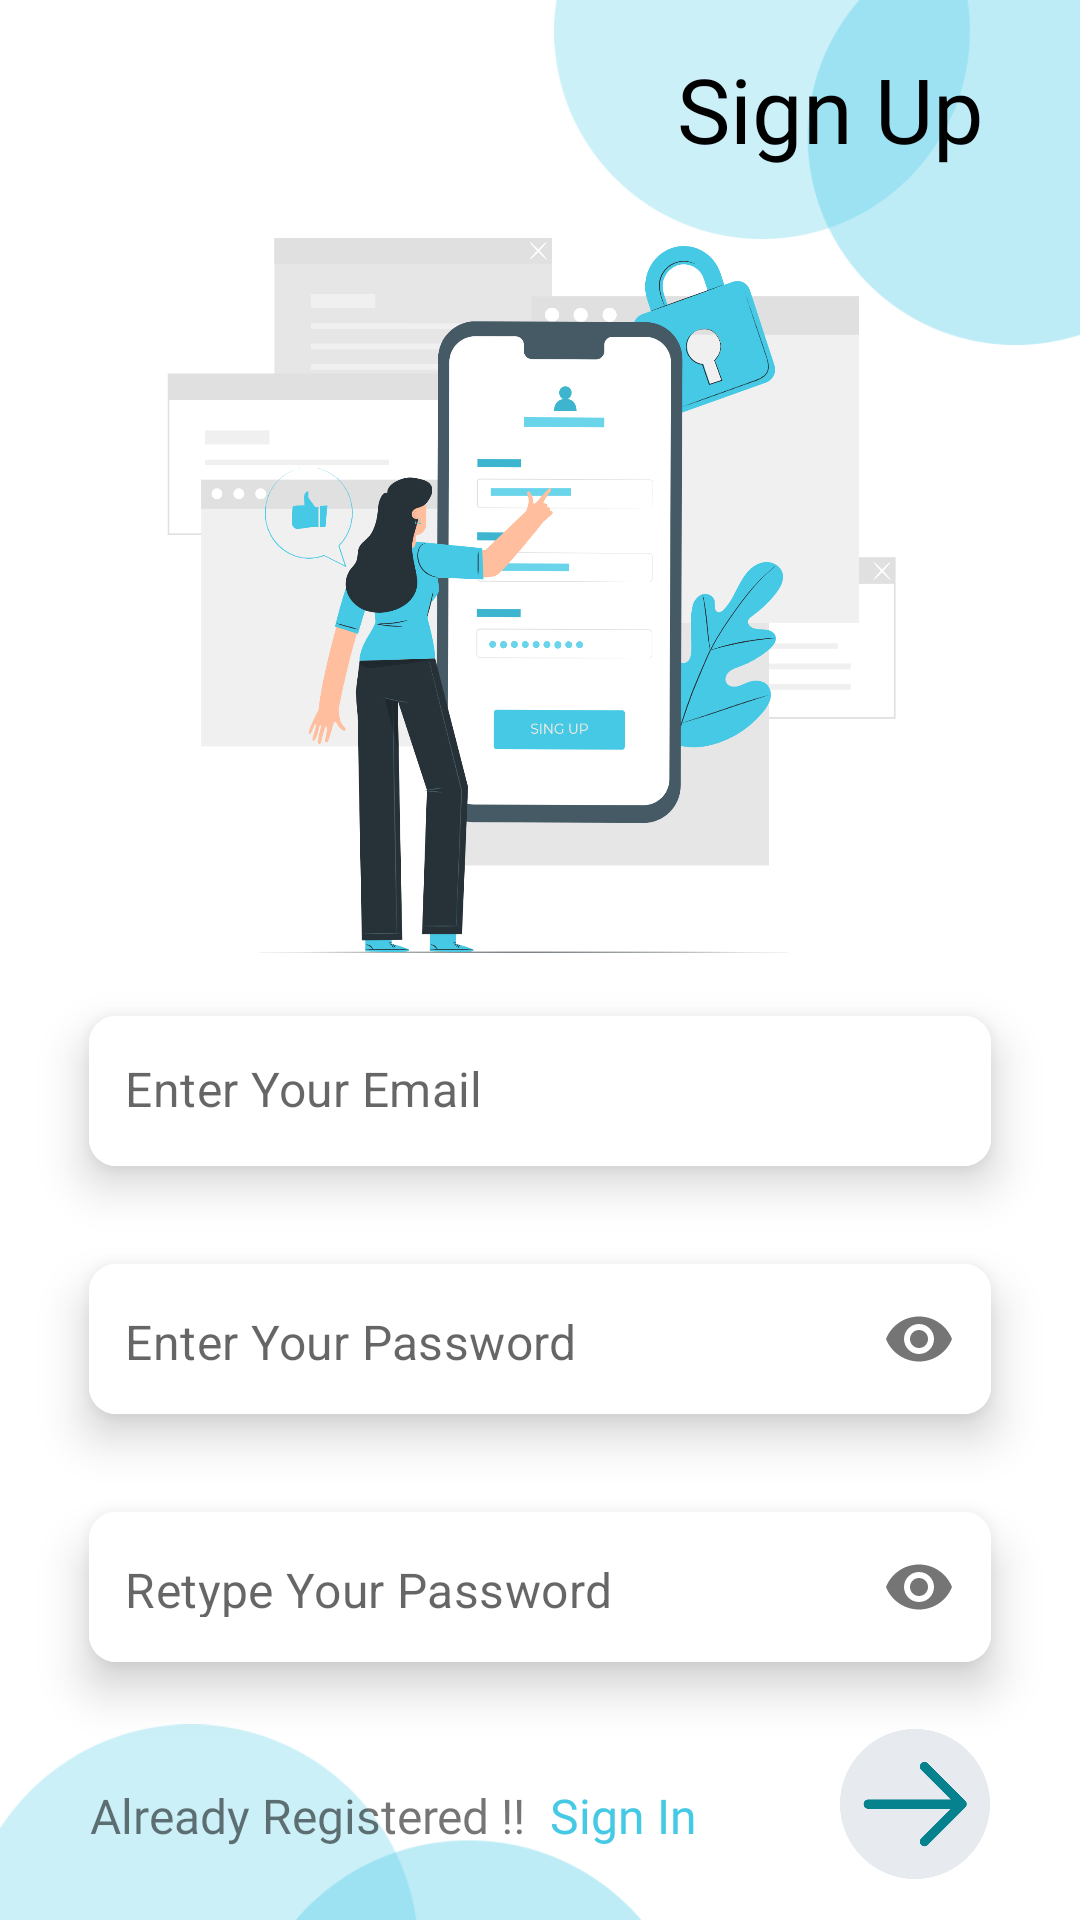

Where icons sit on this 1080 × 1920 app screen, as [x1=x1, y1=y1, x2=x2, y2=y2]:
right: [x1=840, y1=1729, x2=990, y2=1879]
